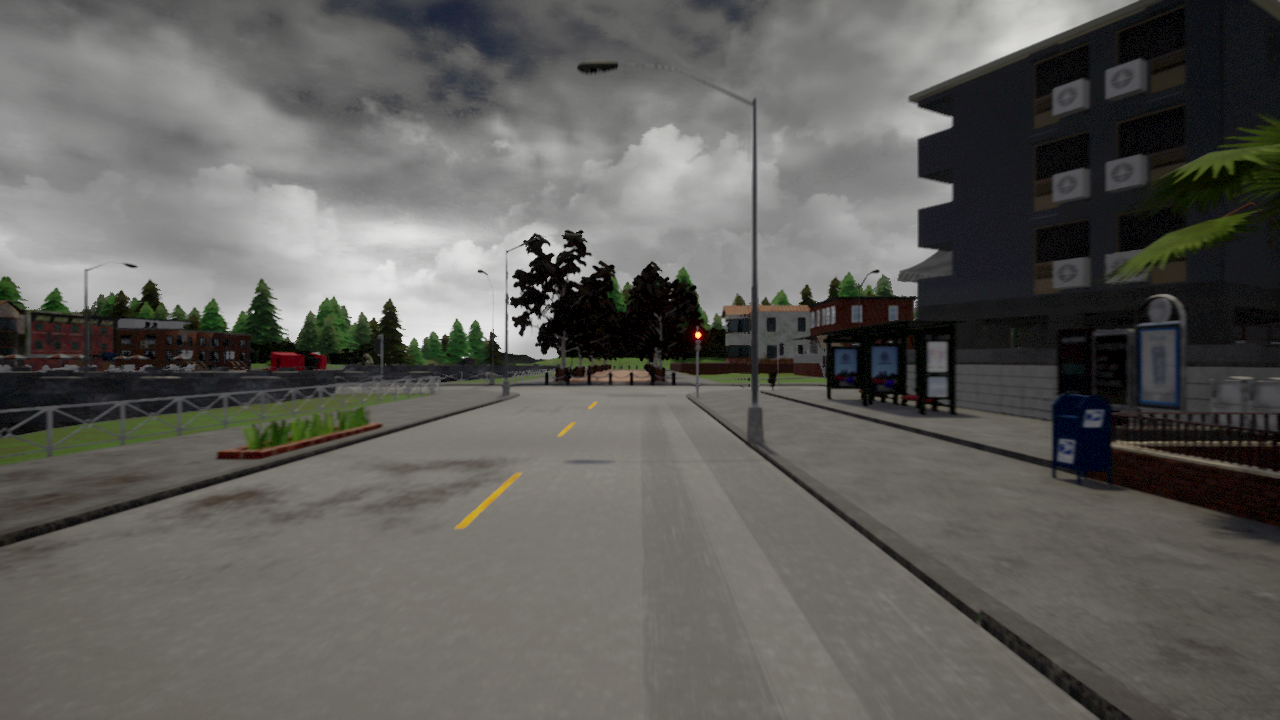red: (693, 329, 702, 351)
